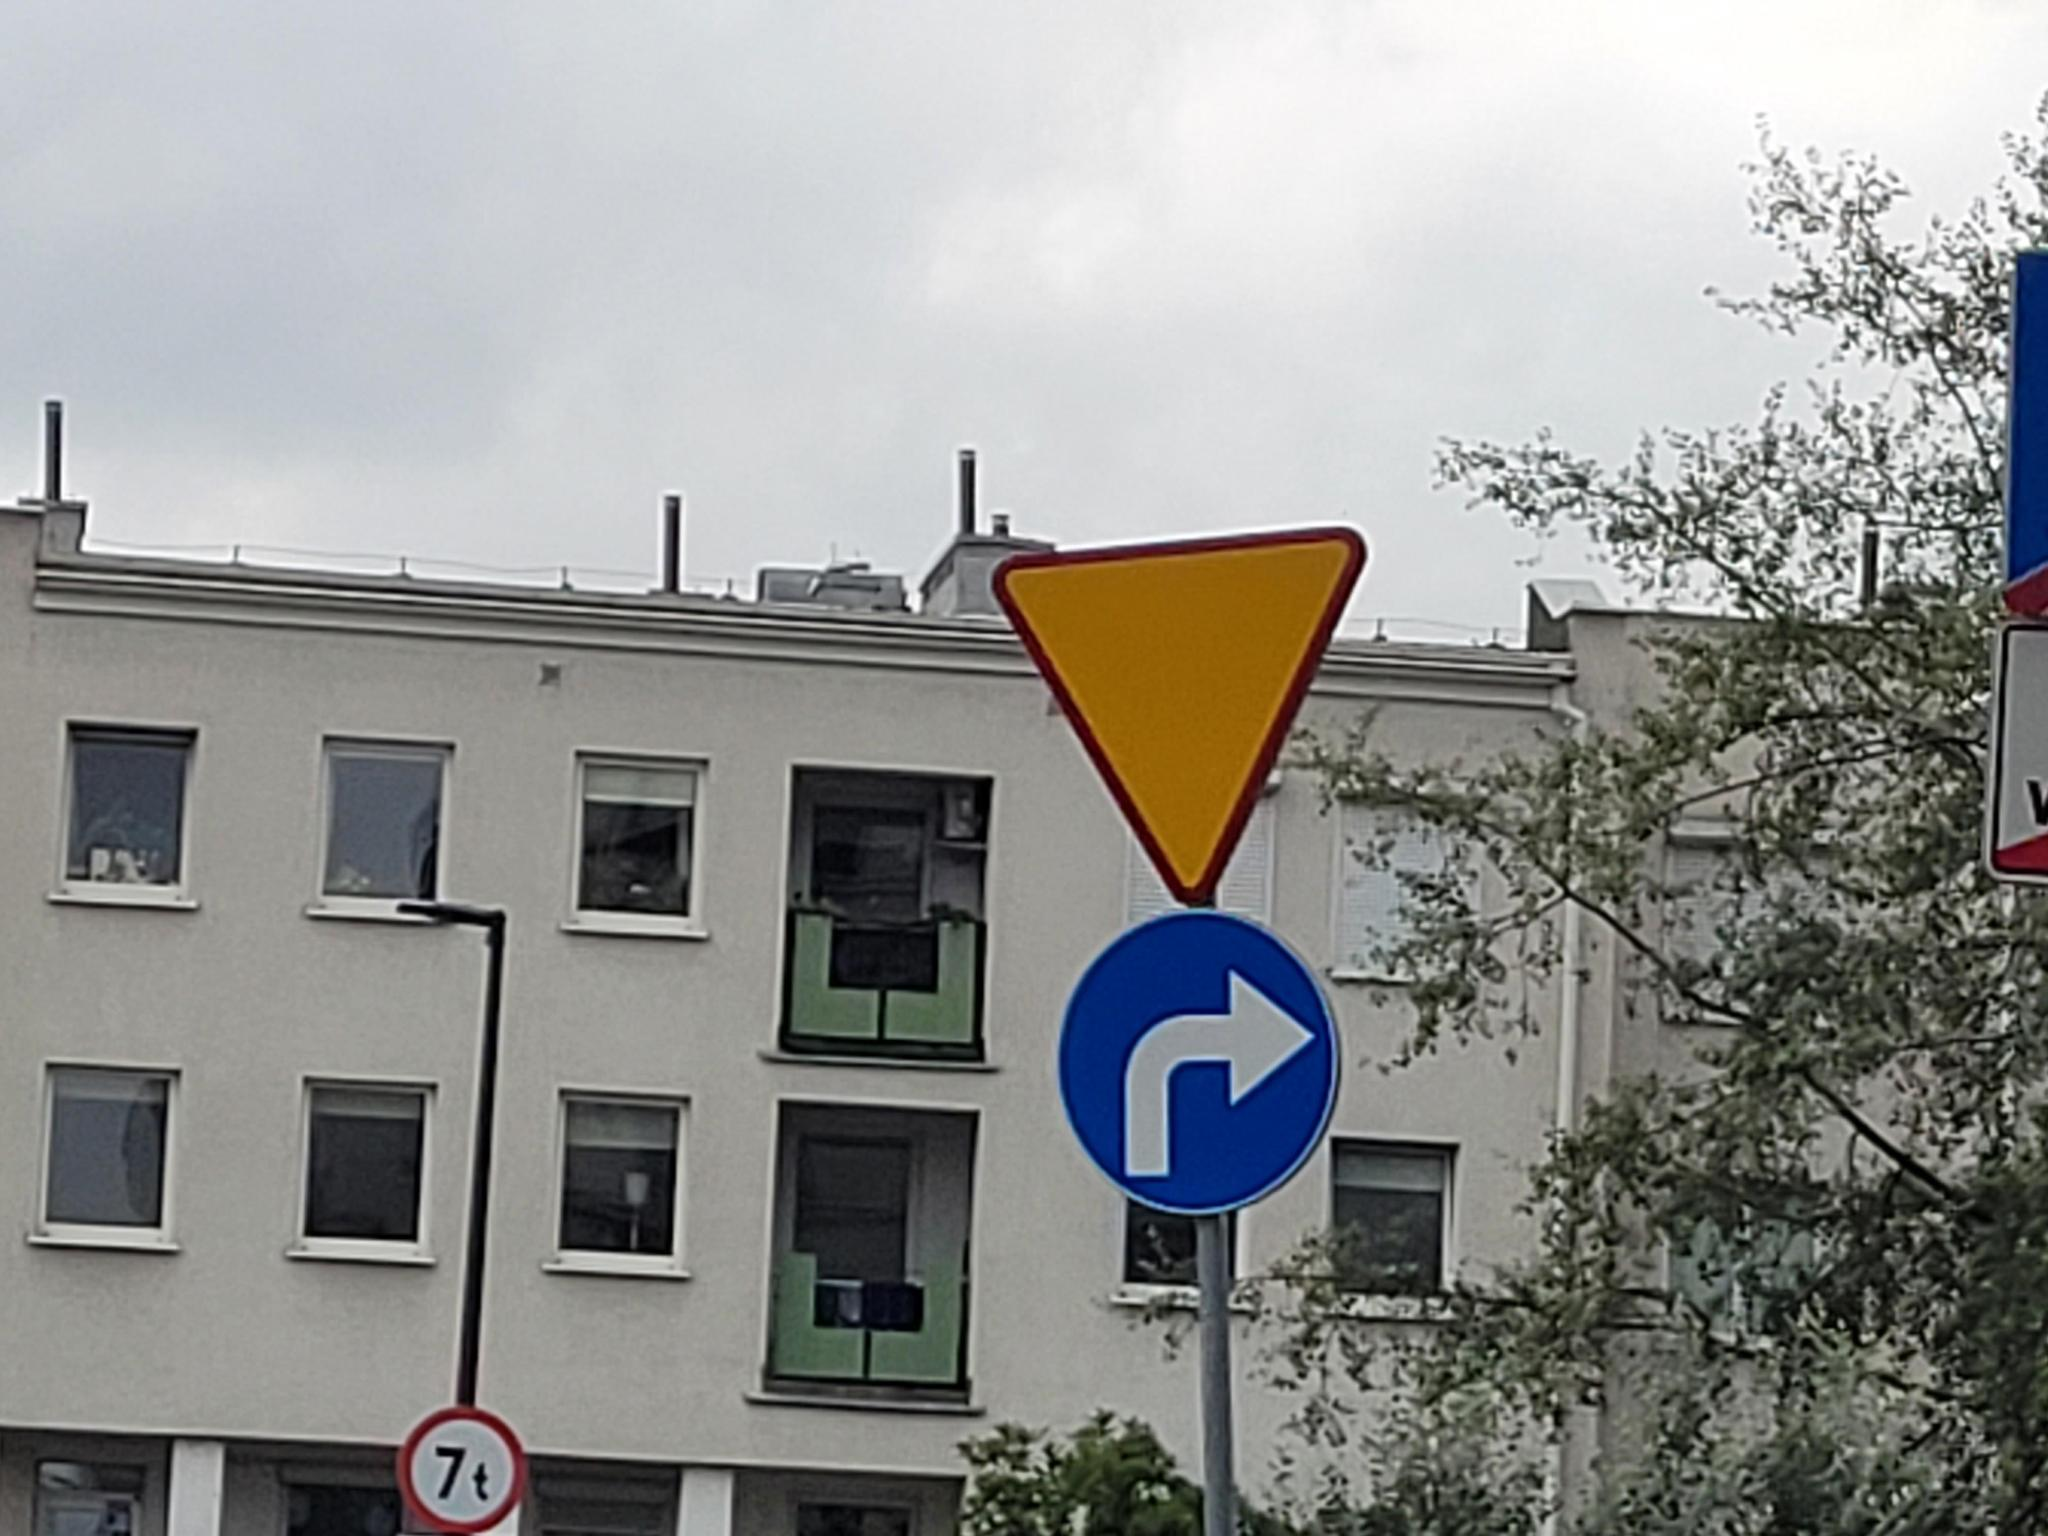mandatory: (1056, 908, 1342, 1217)
prohibitory: (393, 1407, 526, 1536)
warning: (992, 526, 1369, 905)
